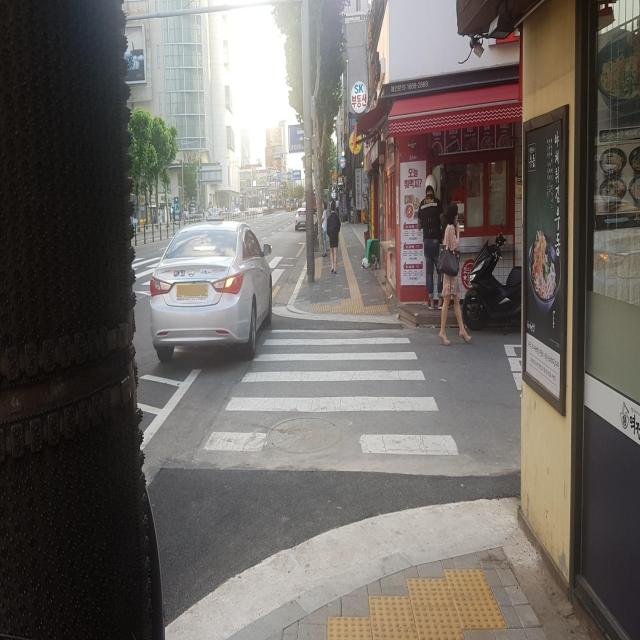횡단보도: (202, 327, 461, 456), (126, 250, 300, 291)
